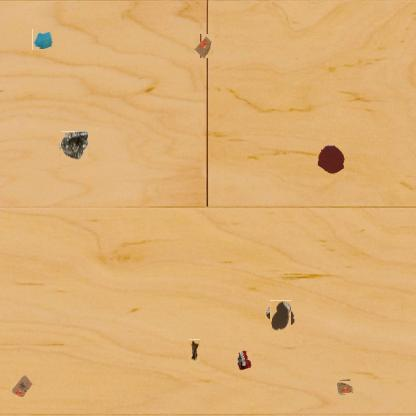dirty: (60, 131, 88, 160), (10, 373, 34, 397), (32, 29, 54, 50), (194, 35, 214, 58), (236, 350, 252, 372), (336, 378, 354, 396), (188, 339, 200, 362)
liquid: (316, 144, 346, 174), (267, 303, 294, 329)
